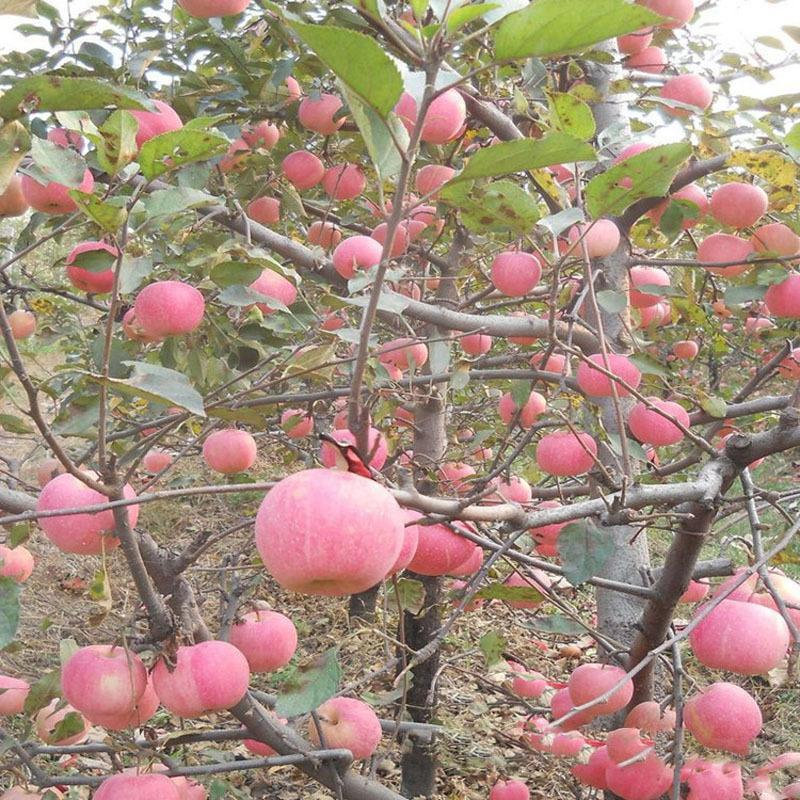apple: (255, 467, 402, 597), (35, 472, 139, 553), (691, 599, 790, 678), (151, 640, 250, 716), (59, 643, 141, 723), (682, 681, 765, 754), (601, 728, 676, 798), (311, 697, 381, 759), (231, 611, 299, 673), (134, 280, 204, 336), (400, 86, 467, 143), (22, 164, 93, 216), (570, 662, 632, 714), (574, 353, 642, 397), (68, 242, 122, 295), (629, 397, 691, 443), (534, 432, 596, 478), (708, 181, 766, 228), (124, 99, 183, 143), (650, 184, 705, 231), (658, 75, 713, 122), (701, 234, 755, 281), (203, 428, 257, 473), (567, 217, 622, 261), (490, 251, 542, 295), (296, 93, 347, 136), (748, 224, 800, 266), (333, 236, 384, 278), (248, 269, 299, 311), (763, 270, 800, 321), (381, 338, 428, 377), (280, 150, 323, 189), (323, 164, 365, 199), (241, 119, 279, 150)
